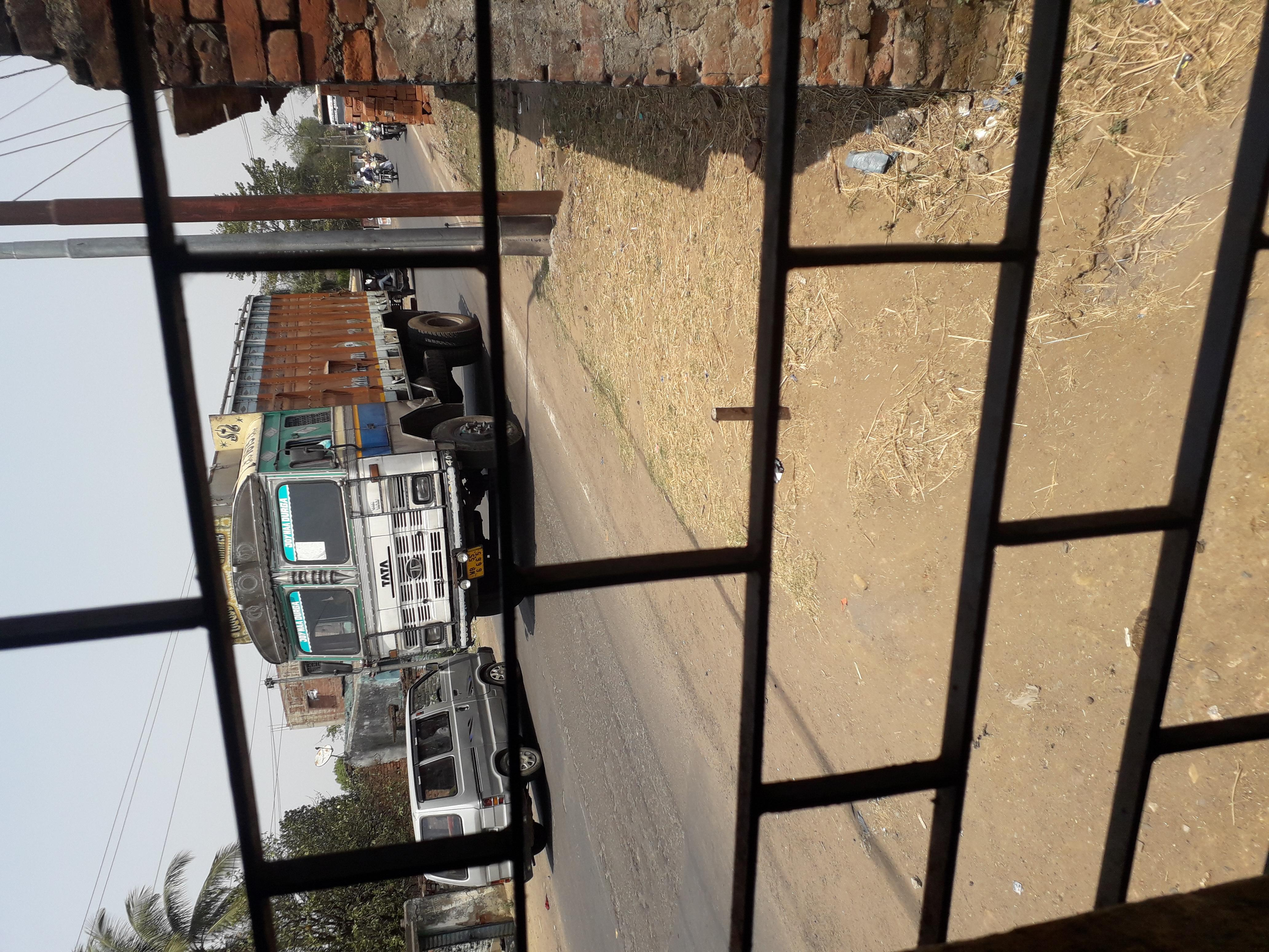License-Plate: (498, 350, 538, 363)
